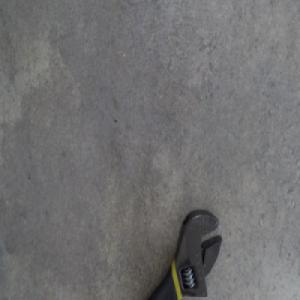AdjustableWrench: (146, 207, 223, 299)
